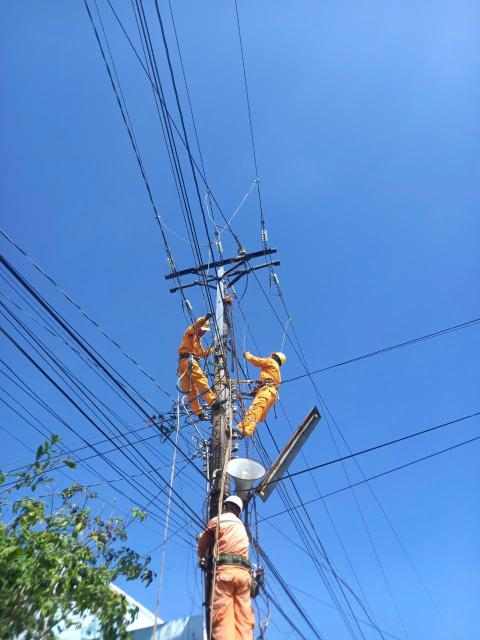gloves: (243, 349, 261, 362), (203, 309, 218, 322), (249, 387, 260, 399), (215, 343, 222, 355)
harness: (216, 555, 250, 568), (173, 354, 204, 362), (260, 380, 278, 393)
helmet: (221, 491, 245, 514), (270, 347, 288, 365), (196, 314, 210, 334)
shoes: (208, 394, 234, 415), (228, 422, 244, 442), (197, 410, 213, 425)
